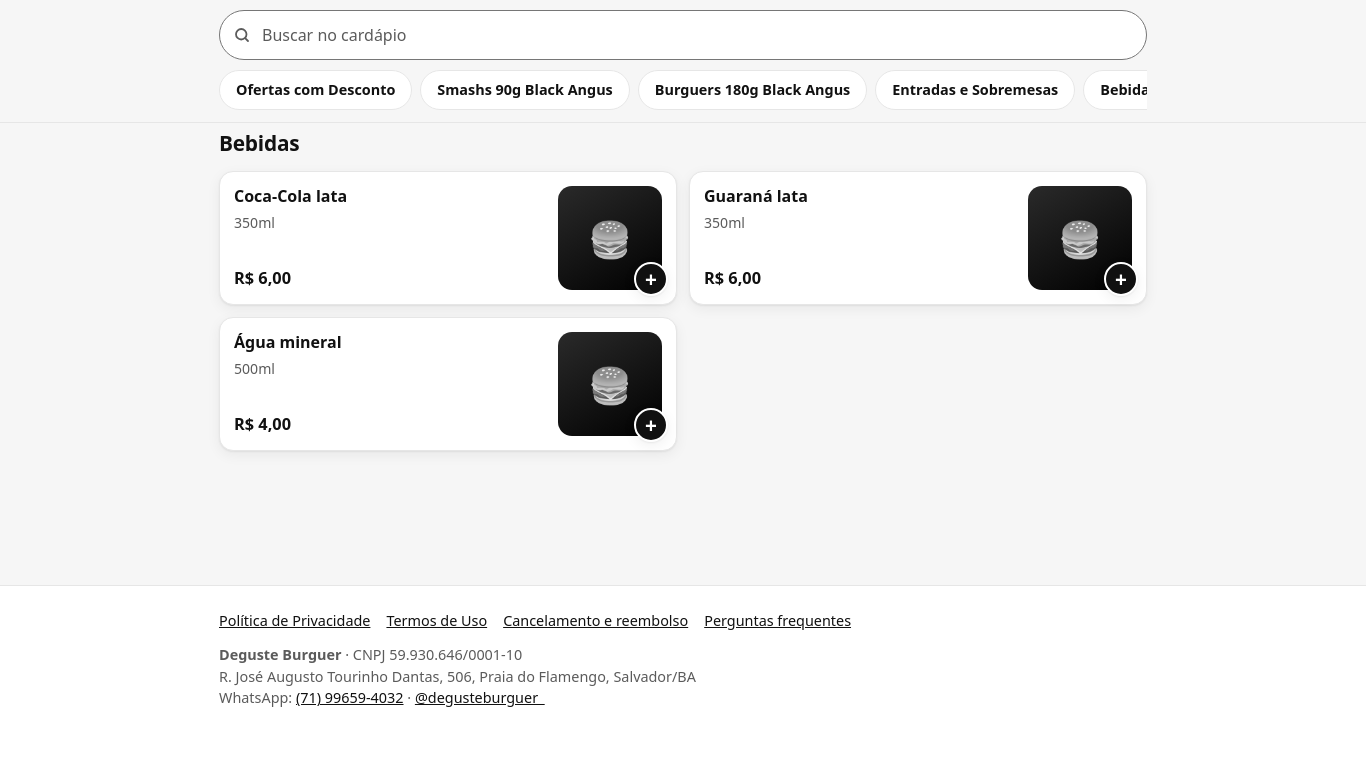
Cardápio público › loja fechada: dá para ver o cardápio, mas não adicionar
(page scrolled)
Click the button "Água mineral 500ml R$ 4,00 🍔 +" at (288, 342), box left=219, top=318, right=677, bottom=452
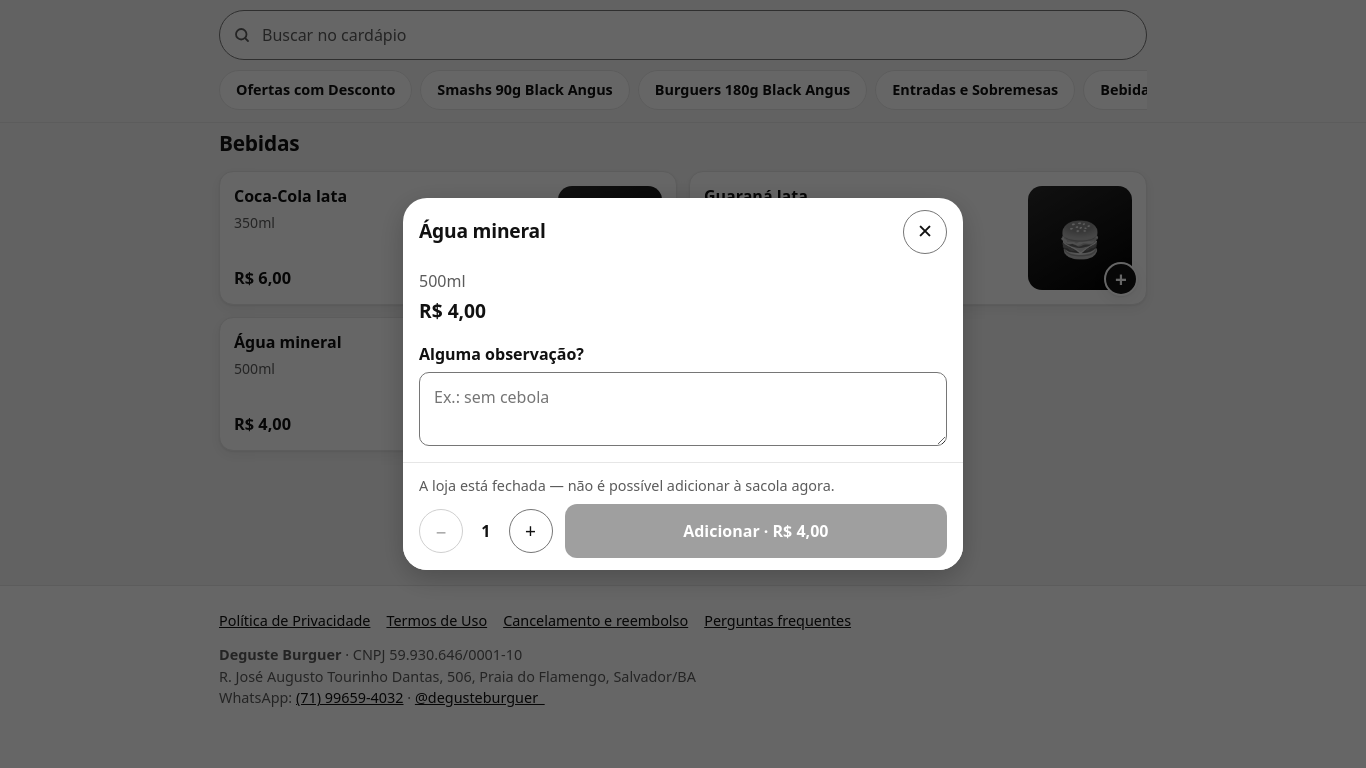
Expected: the button "Adicionar · R$ 4,00" is disabled, left=565, top=504, right=947, bottom=558
Expected: the text "A loja está fechada" is shown, left=419, top=476, right=835, bottom=495
